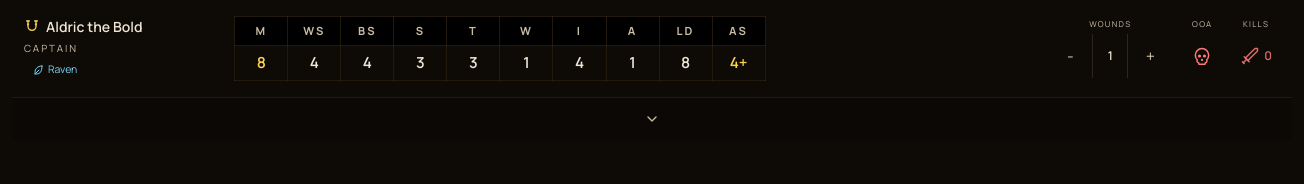
Scenario: battle: a companion's entries › shows the mount's profile and entries from its mark, and a pet's from its chip
Step 1. Hover over the picture named "Rides Warhorse" → {"x": 32, "y": 27}, box [24,19,40,35]
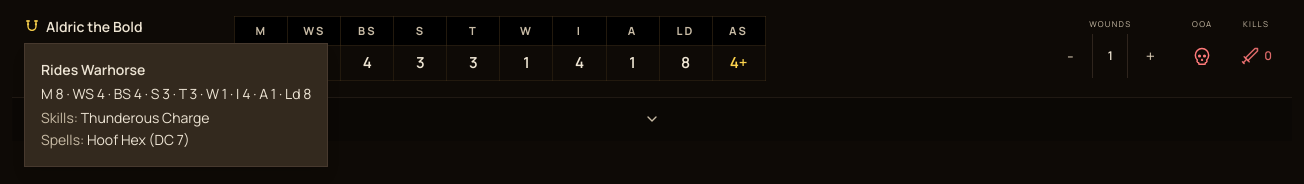
expect the tooltip shows "Rides Warhorse": met, box [41,60,145,79]
expect the tooltip shows "M 8": met, box [41,84,312,103]
expect the tooltip shows "Skills: Thunderous Charge": met, box [24,43,328,167]
Step 2. Move the pointer off the picture named "Rides Warhorse", box [24,19,40,35]
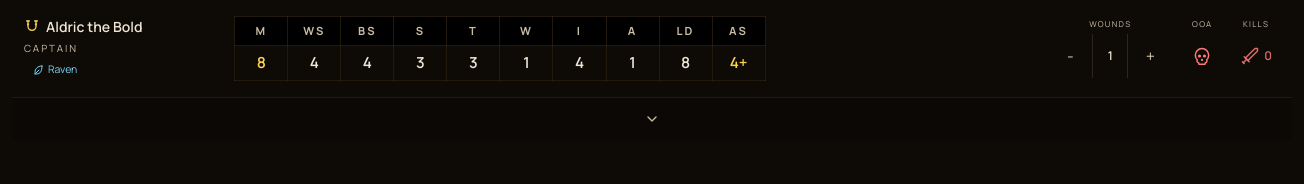
Step 3. Hover over the text "Raven" → {"x": 55, "y": 69}, box [32,62,77,76]
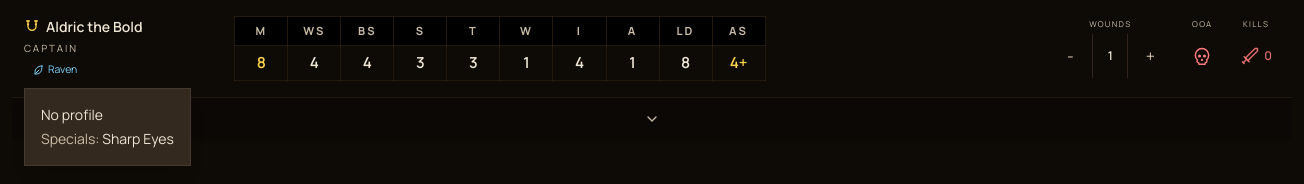
expect the tooltip shows "No profile": met, box [41,105,103,124]
expect the tooltip shows "Specials: Sharp Eyes": met, box [24,88,191,166]
